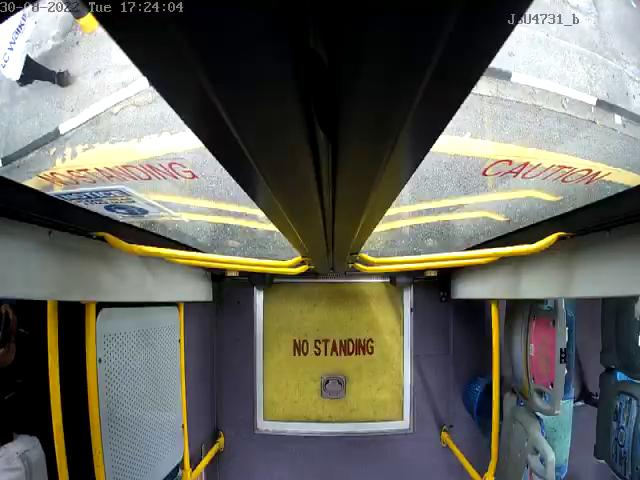close: (0, 0, 640, 91)
